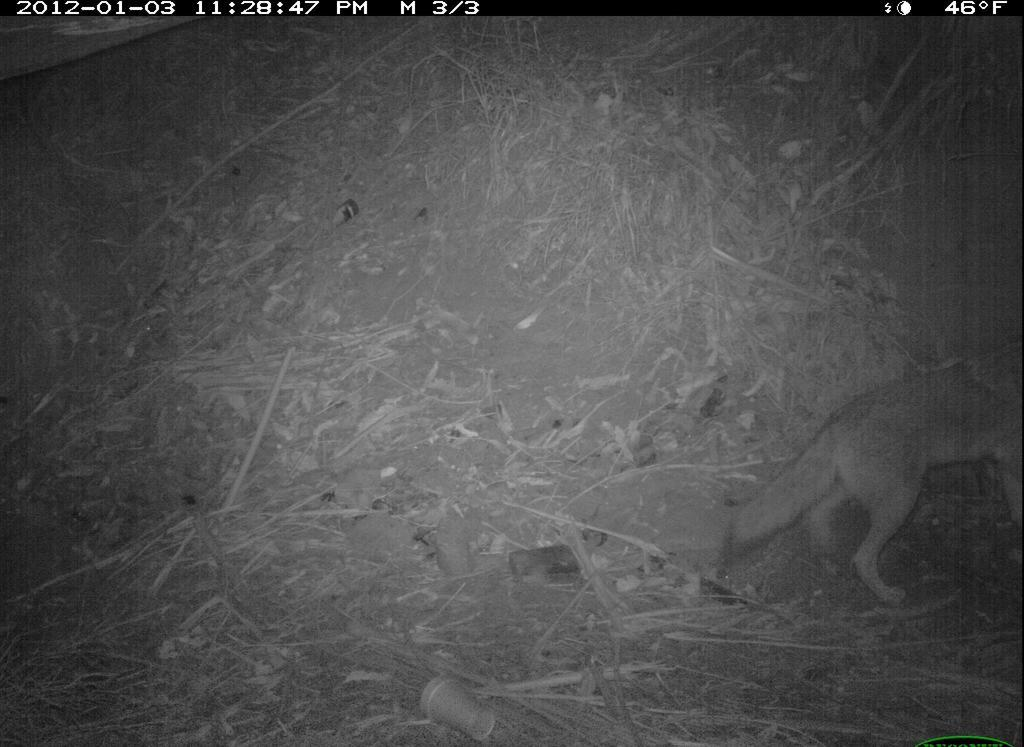coyote: (722, 346, 1023, 600)
